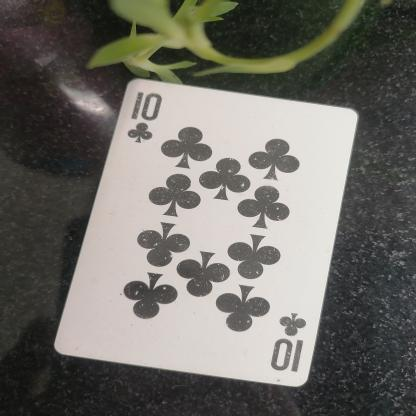10C: (258, 304, 321, 376), (115, 87, 176, 149)
